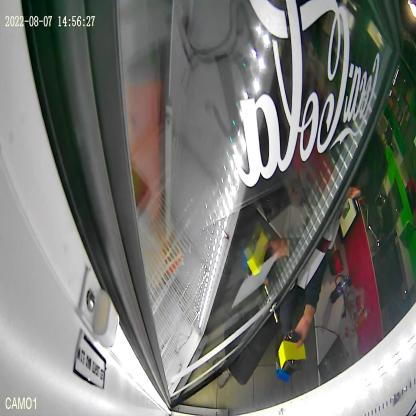blue: (274, 340, 290, 384)
yellow: (278, 330, 306, 376)
